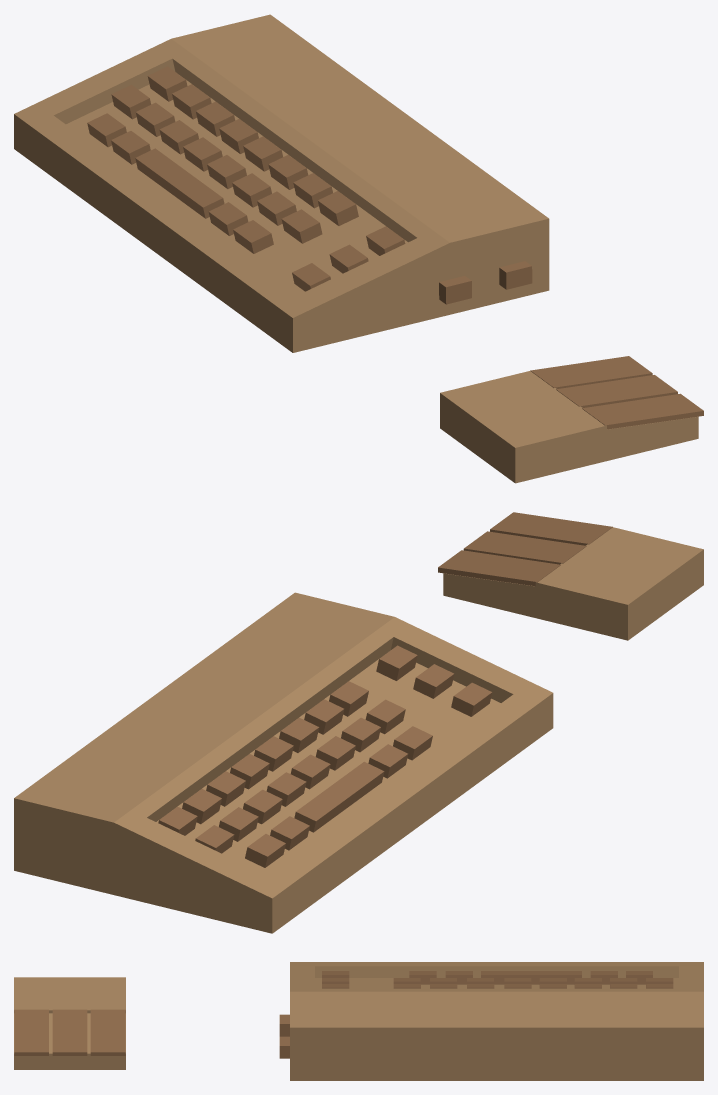
Rendered from Keyboard&Mouse_tier2.fbx.
3 views of the same model, one above another, from view 1: azimuth 30°, elevation 25°; view 2: azimuth 150°, elevation 25°; view 3: azimuth 270°, elevation 25° (orthographic). The views are drawn at different scales.
Visible parts, largest first — view 1: Cube, Cube.023, Cube.024; view 2: Cube, Cube.024, Cube.023; view 3: Cube, Cube.024, Cube.023.
Part boxes in pixels (x1=…): Cube: x1=14, y1=14, x2=549, y2=352; Cube.023: x1=87, y1=66, x2=532, y2=304; Cube.024: x1=440, y1=356, x2=703, y2=483; Cube: x1=14, y1=592, x2=553, y2=933; Cube.024: x1=438, y1=512, x2=703, y2=640; Cube.023: x1=158, y1=645, x2=492, y2=867; Cube: x1=290, y1=962, x2=703, y2=1080; Cube.024: x1=14, y1=977, x2=125, y2=1069; Cube.023: x1=279, y1=971, x2=673, y2=1058.
Bounding box in the file's own units: 0.3689 × 0.1033 × 1.16.
